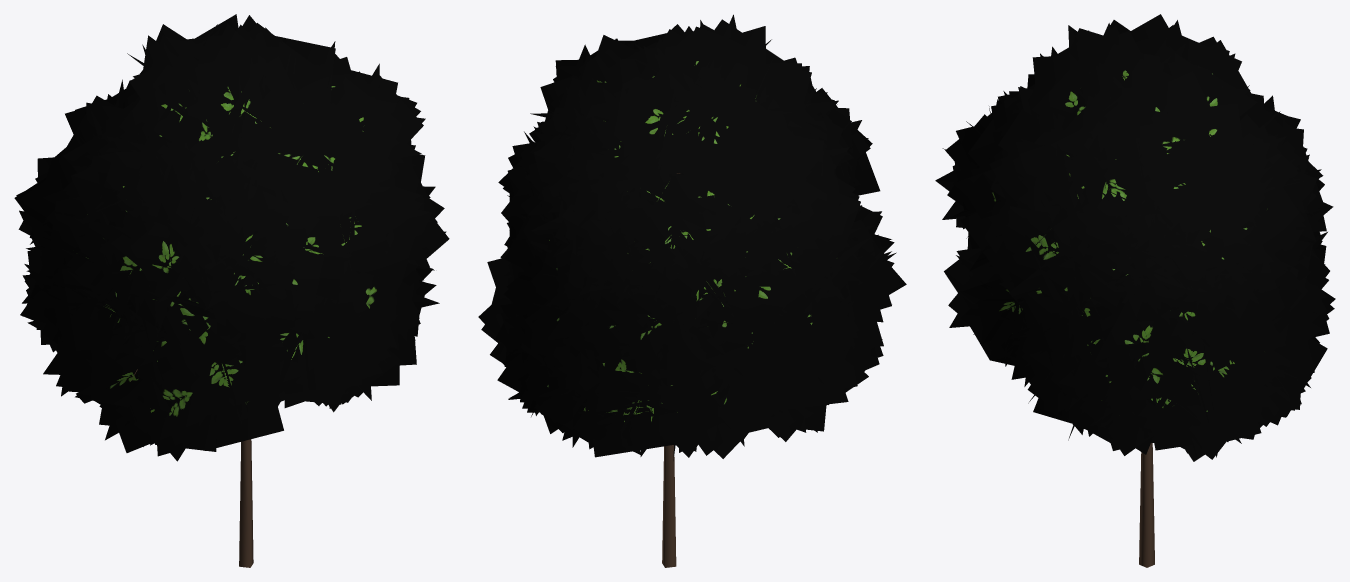
The model's file is Tree.001.fbx.
3 renders of one model, left to right at view 1: azimuth 30°, elevation 25°; view 2: azimuth 150°, elevation 25°; view 3: azimuth 270°, elevation 25°, orthographic. The views are drawn at different scales.
Visible parts, largest first — view 1: Leaf.001, Leaf.002, trunk; view 2: Leaf.001, Leaf.002, trunk; view 3: Leaf.001, Leaf.002, trunk.
Boxes of the visible parts, x1,y1,x2,y2 form: Leaf.001: (16, 14, 449, 461); Leaf.002: (14, 23, 439, 446); trunk: (130, 369, 253, 567); Leaf.001: (481, 19, 906, 460); Leaf.002: (478, 14, 894, 457); trunk: (662, 173, 680, 567); Leaf.001: (942, 20, 1334, 461); Leaf.002: (935, 14, 1335, 456); trunk: (1139, 443, 1154, 567).
Size of the model in its own units: 529 by 725 by 501.
